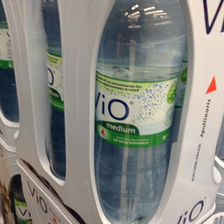water: (95, 1, 188, 224)
